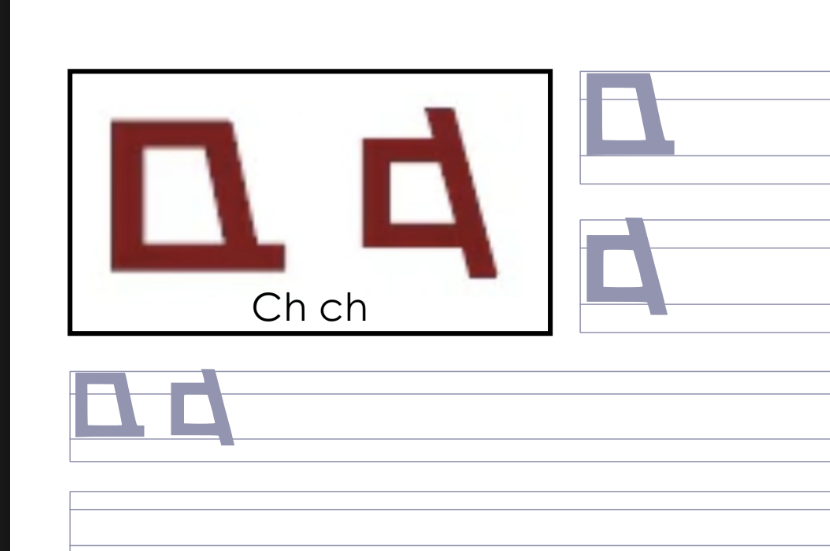CH: (98, 109, 296, 281), (577, 66, 681, 165), (60, 359, 155, 452)
ch: (345, 98, 521, 284), (578, 210, 677, 325), (162, 360, 249, 450)
